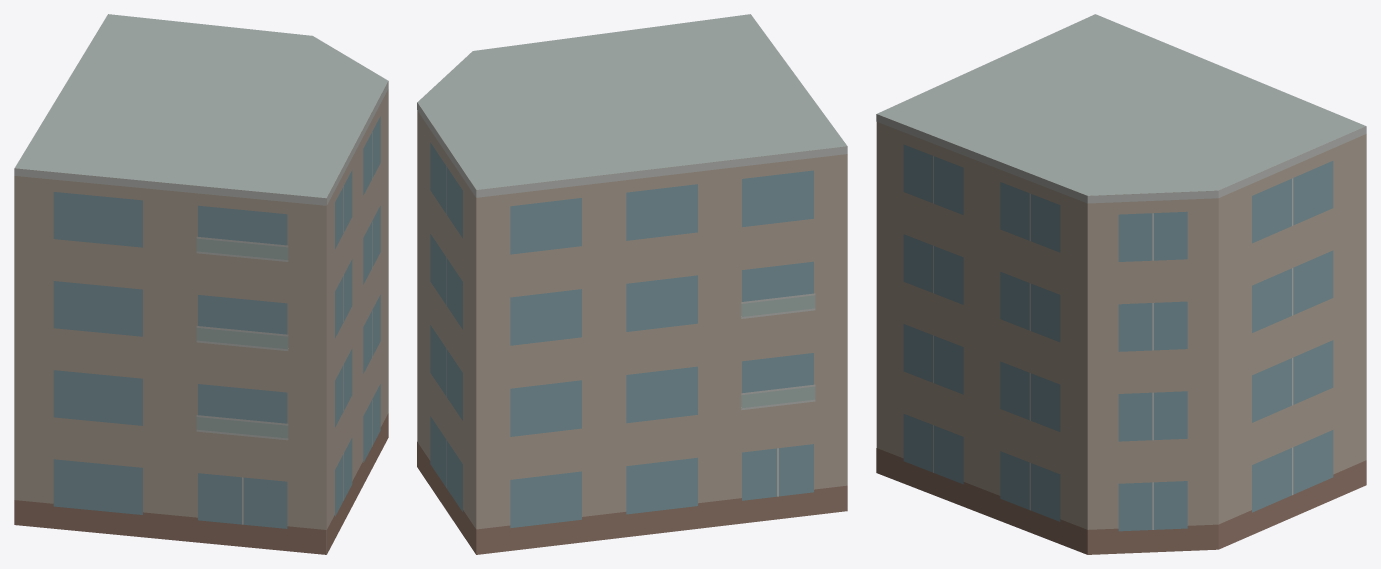
The model's file is residential-383ccb4e-6c16-45a9-9832-f1d8848fc181.glb.
3 renders of one model, left to right at view 1: azimuth 30°, elevation 25°; view 2: azimuth 150°, elevation 25°; view 3: azimuth 270°, elevation 25°, orthographic. The views are drawn at different scales.
Visible parts, largest first — view 1: residential-383ccb4e-6c16-45a9-9832-f1d8848fc181.tmp; view 2: residential-383ccb4e-6c16-45a9-9832-f1d8848fc181.tmp; view 3: residential-383ccb4e-6c16-45a9-9832-f1d8848fc181.tmp.
Part boxes in pixels (x1,y1,x2,y2): residential-383ccb4e-6c16-45a9-9832-f1d8848fc181.tmp: (14, 14, 388, 554); residential-383ccb4e-6c16-45a9-9832-f1d8848fc181.tmp: (417, 14, 847, 554); residential-383ccb4e-6c16-45a9-9832-f1d8848fc181.tmp: (876, 14, 1366, 554).
Bounding box in the file's own units: 12.5 × 11.5 × 14.24.
